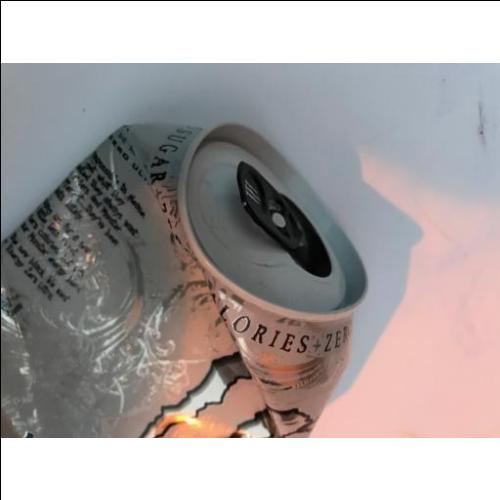metal: (3, 123, 369, 432)
